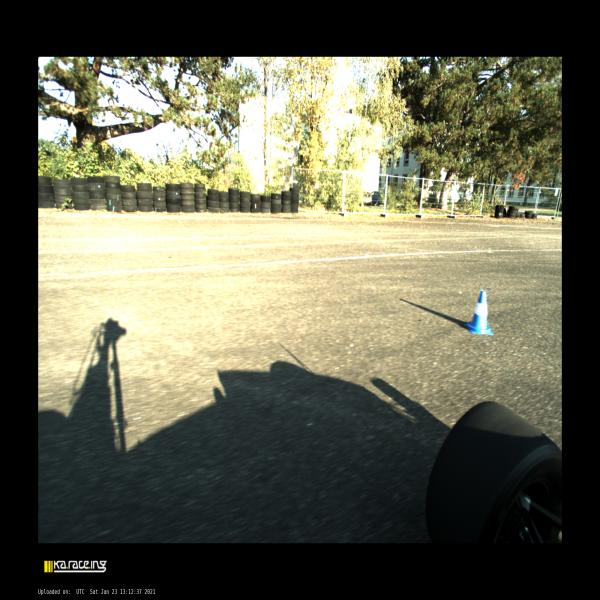blue_cone: (463, 289, 494, 335)
